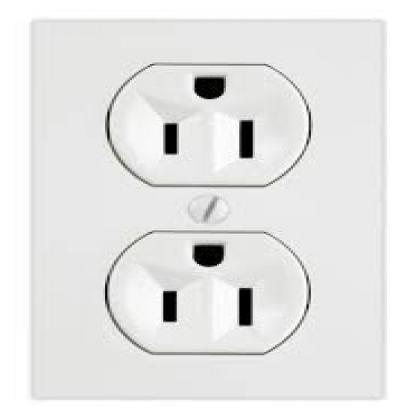OUTLET: (29, 18, 385, 399)
